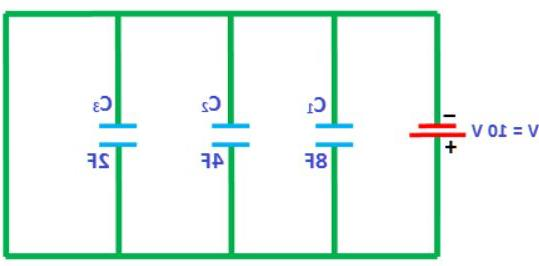Capacitor: (310, 109, 368, 151)
